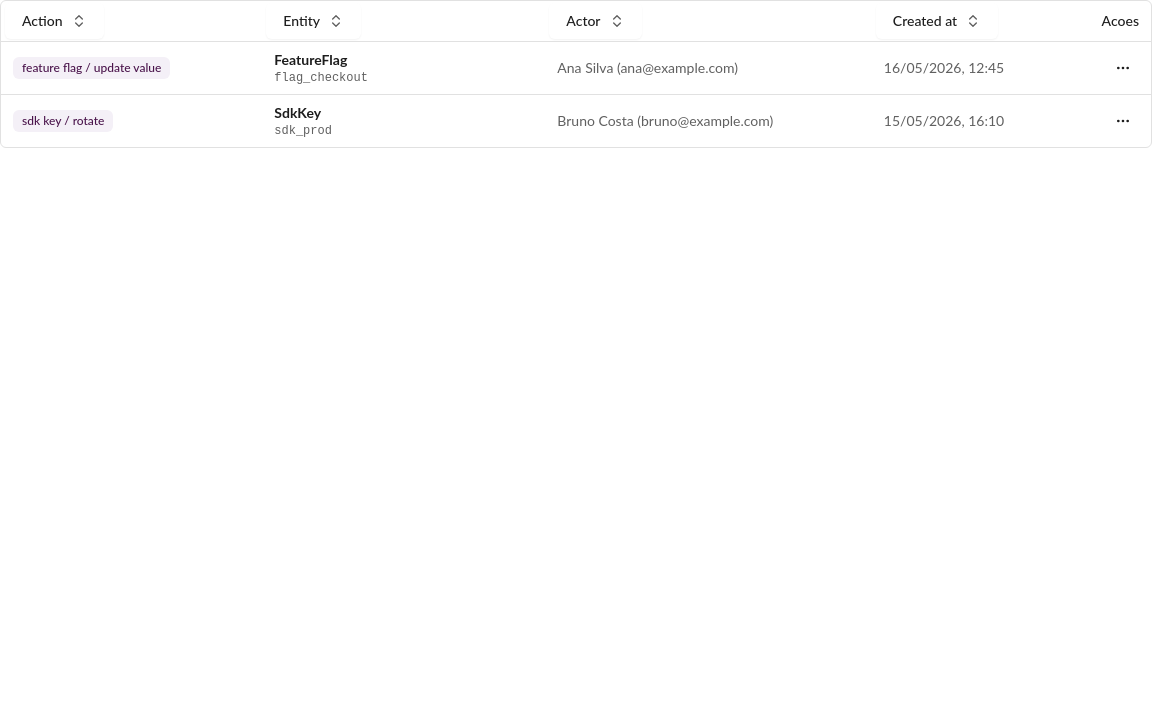
Scenario: AuditLogs display components › renders table rows, loading and details dialog
expect the text "FeatureFlag" is shown: met, box [274,50,347,68]
expect the text "flag_checkout" is shown: met, box [274,70,368,84]
Click the button named "Acoes para feature flag / update value" in the row of "feature flag / update value".
click(1123, 68)  # box [1107,52,1139,84]
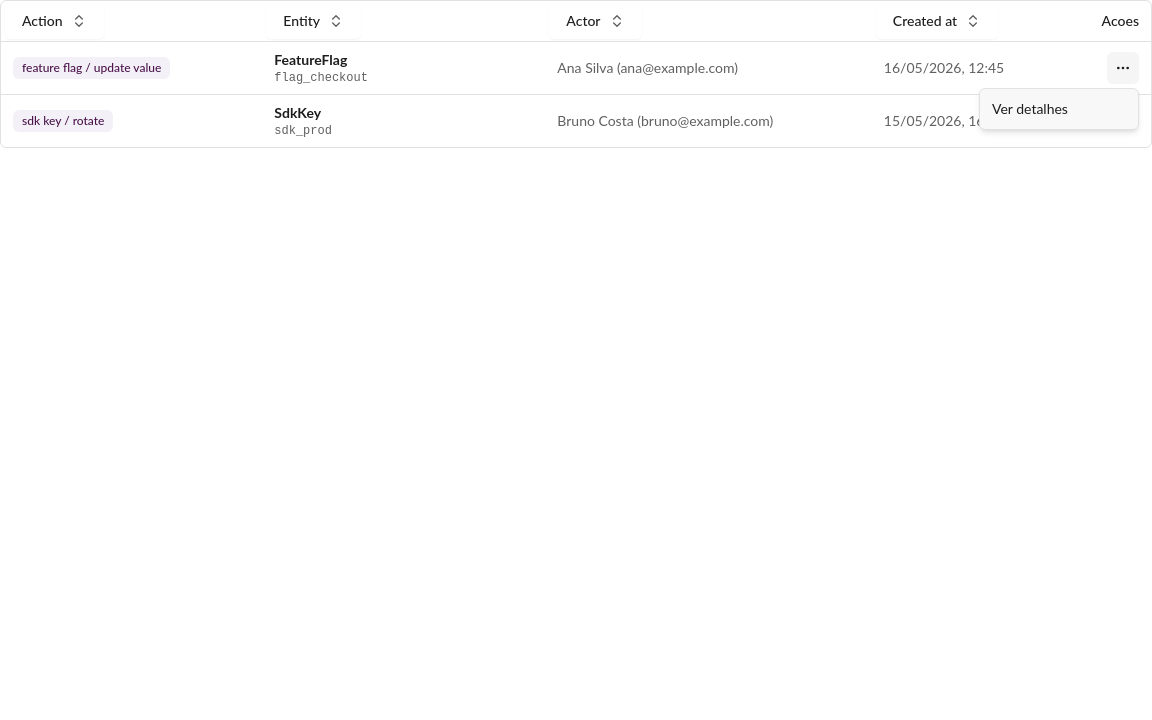
Click the menu item "Ver detalhes".
click(1030, 108)  # box [992,100,1068,117]
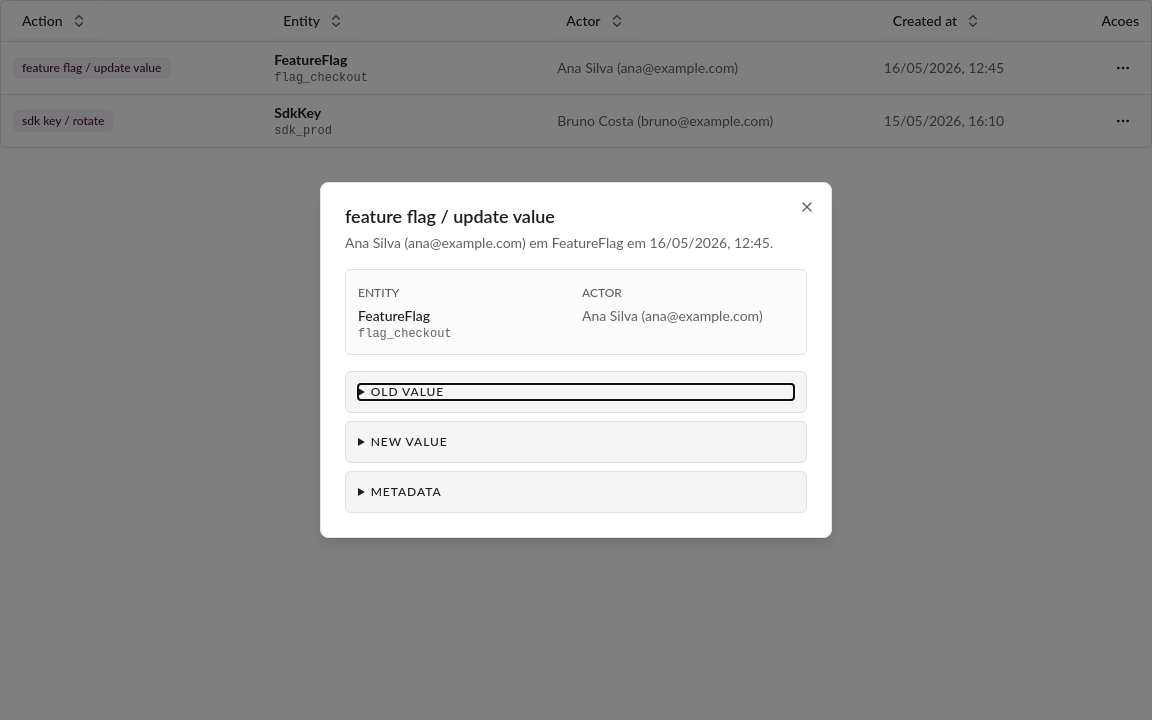
expect the dialog "feature flag / update value" is shown: met, box [320,182,832,538]
expect the heading "Old value" is shown: met, box [371,384,444,399]
expect the heading "New value" is shown: met, box [371,434,448,449]
